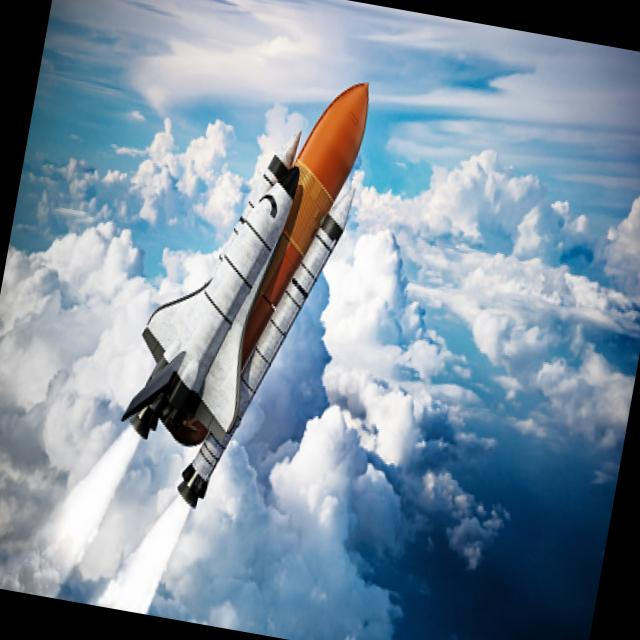rocket: (42, 27, 387, 639)
